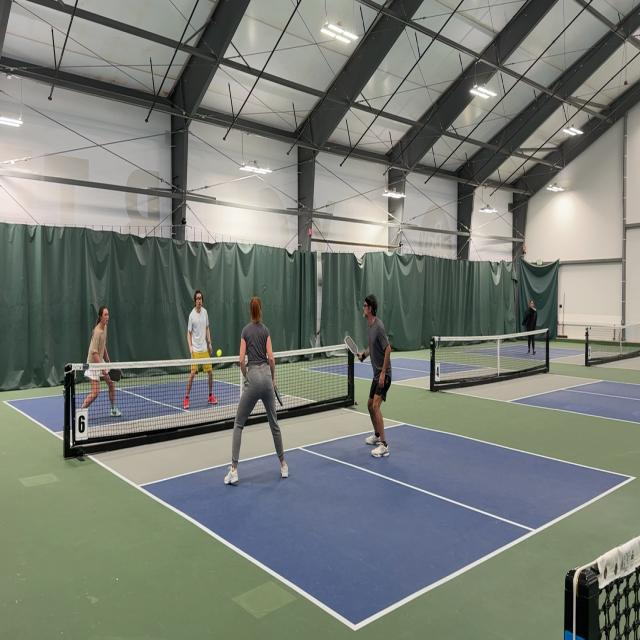ball: (215, 348, 222, 358)
